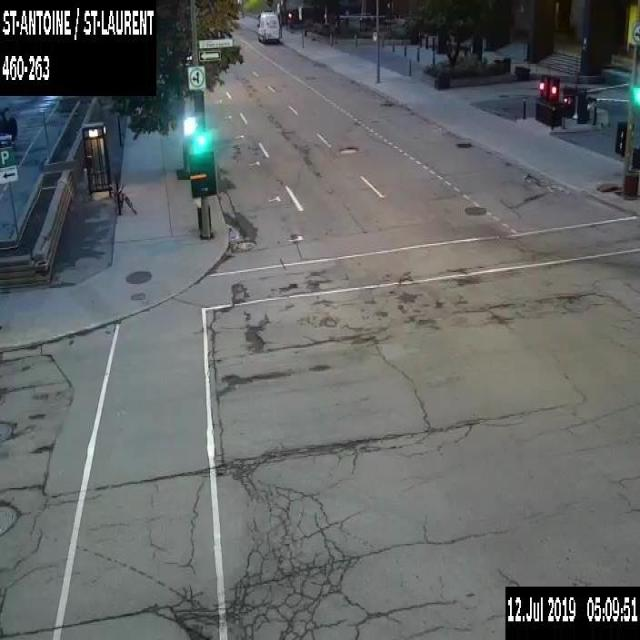vehicle: (258, 10, 280, 42), (0, 105, 17, 138), (0, 133, 15, 147)
